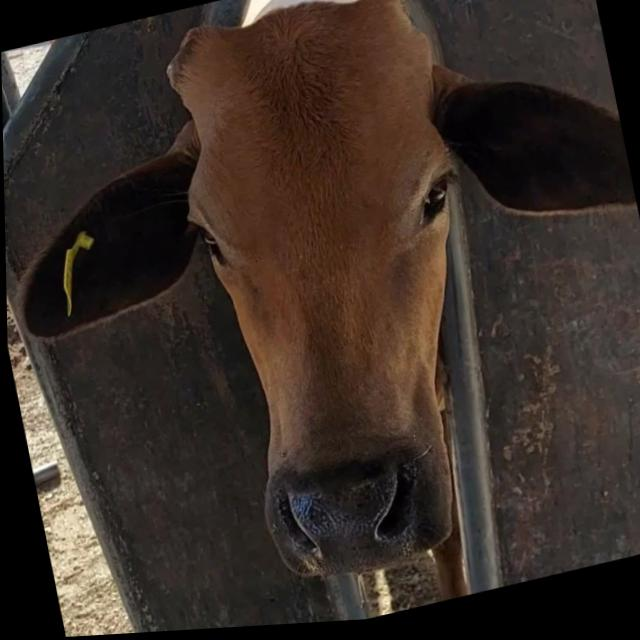cowFace: (154, 0, 523, 604)
